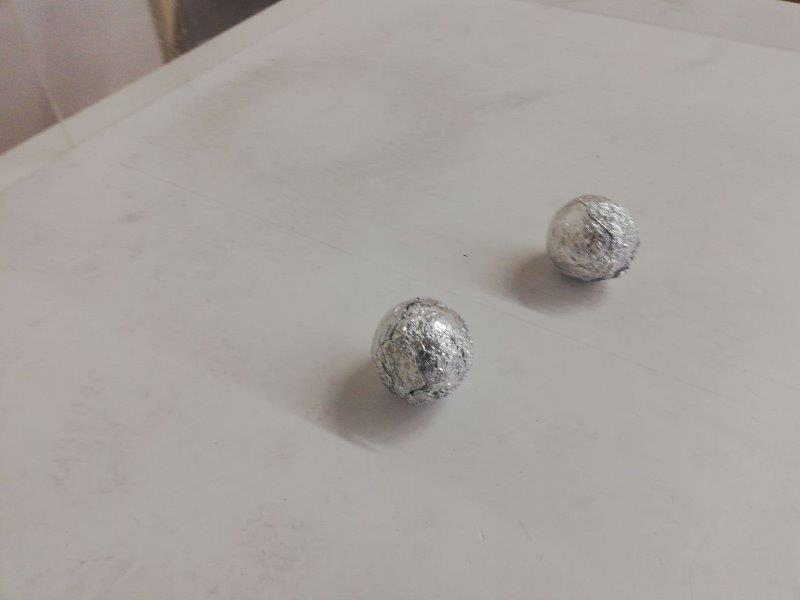bianca: (369, 294, 475, 407), (548, 196, 639, 281)
